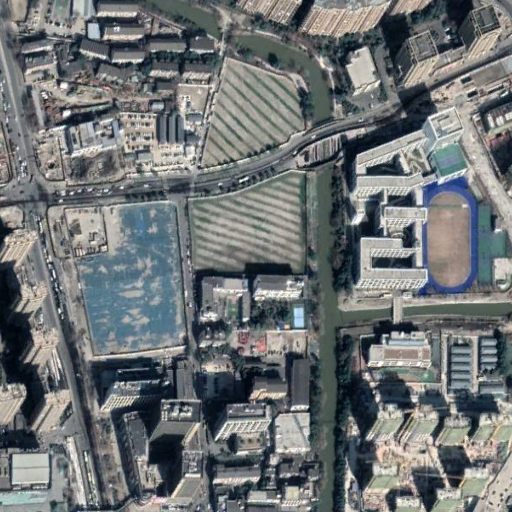cw: (75, 202, 190, 362)
